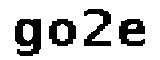2: (81, 5, 115, 51)
e: (117, 16, 147, 50)
g: (8, 15, 44, 60)
o: (46, 19, 77, 47)
